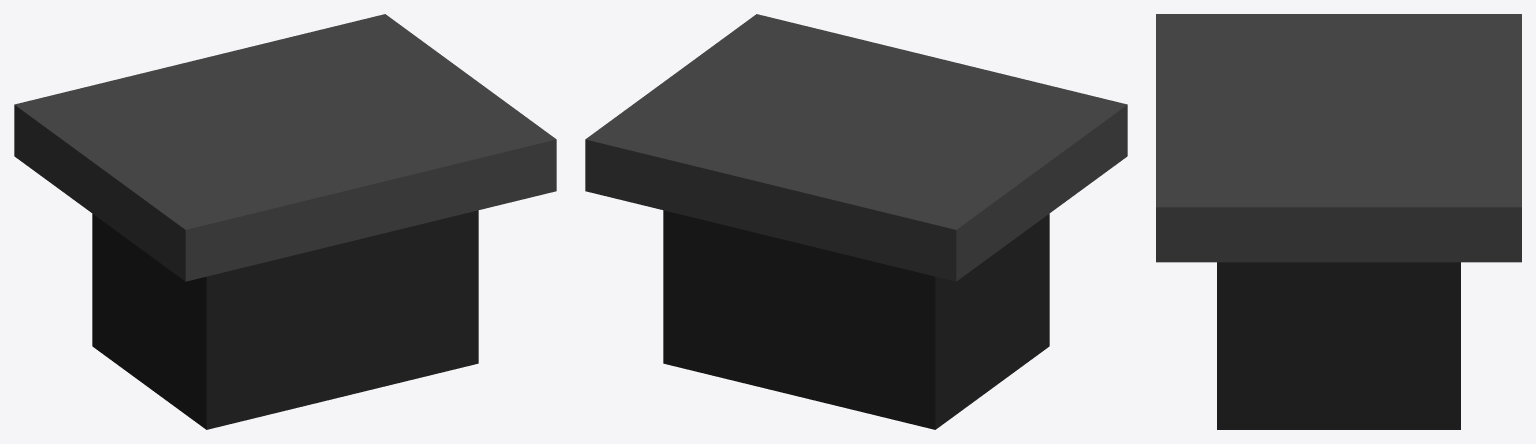
Rendered from table basse.obj.
The picture shows the model from 3 angles, left to right: view 1: azimuth 30°, elevation 25°; view 2: azimuth 150°, elevation 25°; view 3: azimuth 270°, elevation 25°; orthographic projection. The views are drawn at different scales.
Bounding box in the file's own units: 1.5 × 0.9 × 1.2.
1 material, 1 textured.
